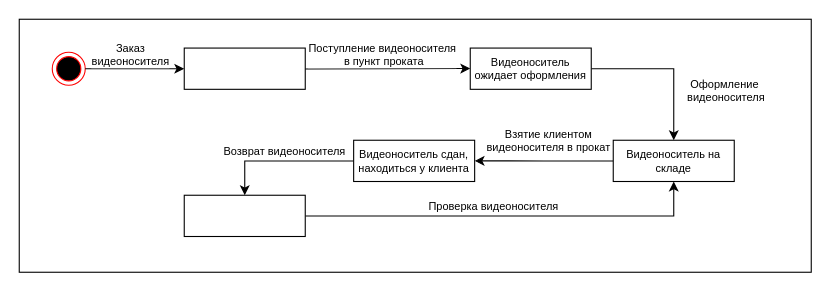
Image size: 831x292. Some labels were removed from this diagram. The shapes that lost their labels are listed below. From the top down, each one's centre as x and y in pixels, then its label:
the point at 244,68: Видеоноситель заказан
the point at 244,215: Видеоноситель ожидает проверки
